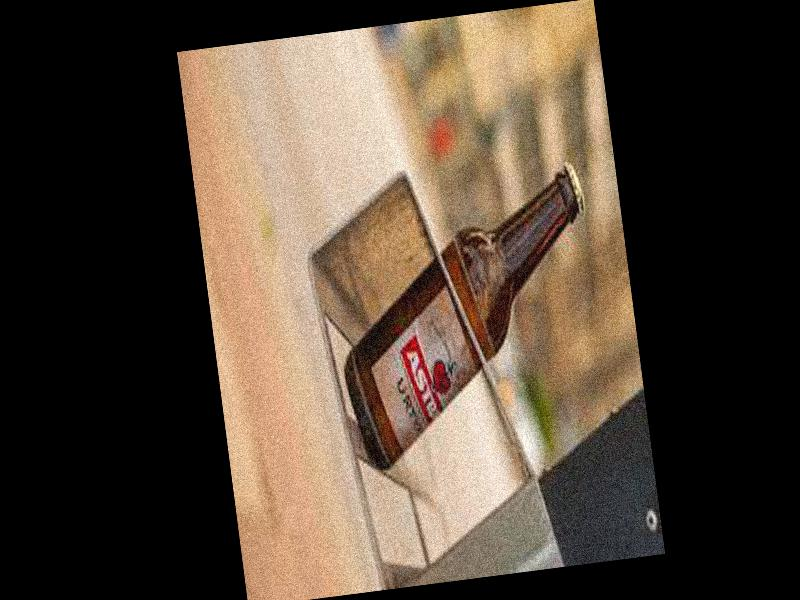Beer: (320, 157, 616, 476)
